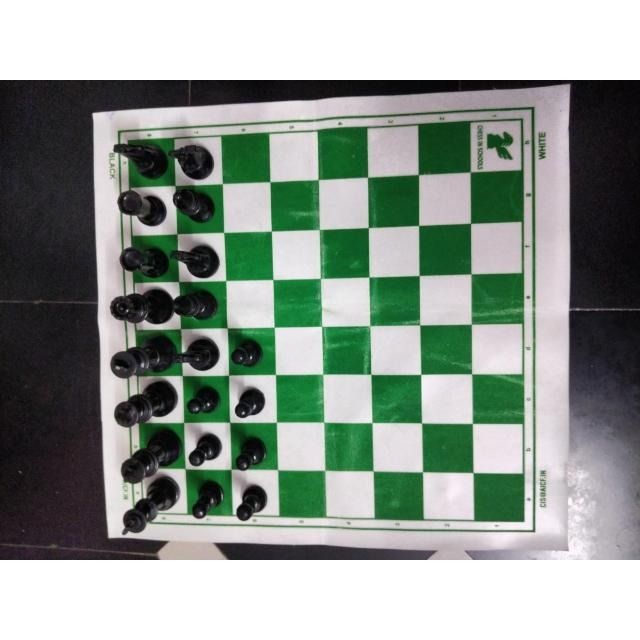black-bishop: (170, 284, 222, 320), (171, 187, 219, 225)
black-king: (116, 477, 184, 535), (114, 430, 184, 483), (109, 332, 178, 382), (112, 379, 182, 428)
black-knight: (111, 137, 170, 181), (169, 240, 225, 281), (165, 139, 219, 178), (169, 337, 224, 373)
black-pawn: (231, 480, 273, 525), (185, 478, 228, 520), (228, 334, 270, 373), (230, 433, 269, 474), (184, 430, 225, 468), (232, 385, 270, 422), (184, 383, 222, 419)
black-queen: (107, 287, 175, 325)
black-rook: (113, 187, 170, 229), (117, 240, 173, 279)
